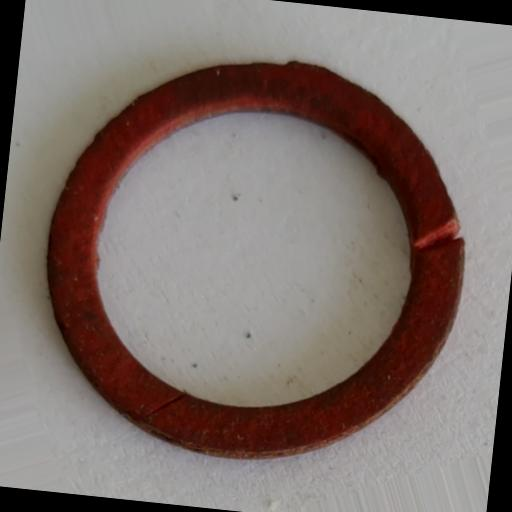defect: (413, 212, 466, 258), (144, 388, 184, 424)
